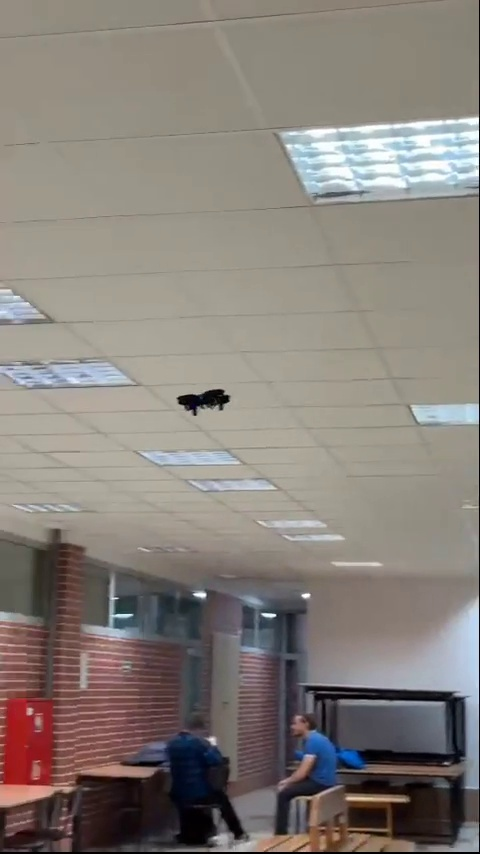drone: (176, 387, 235, 415)
no vest: (174, 712, 244, 845), (268, 709, 349, 814)
